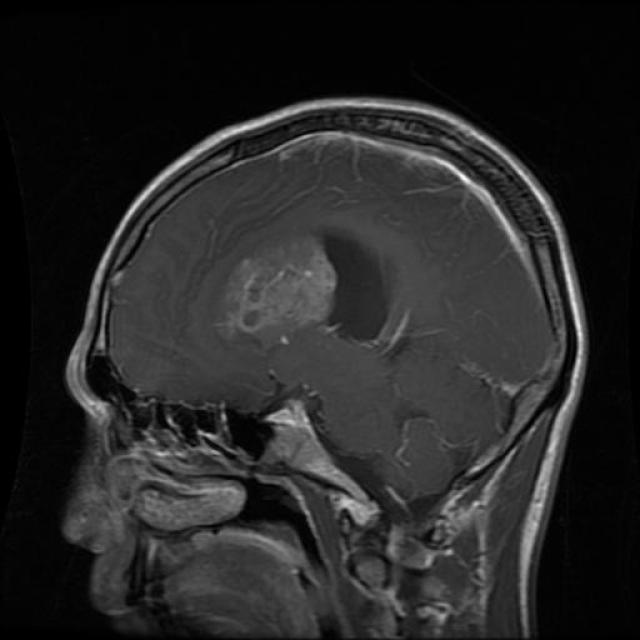glioma: (228, 222, 392, 350)
